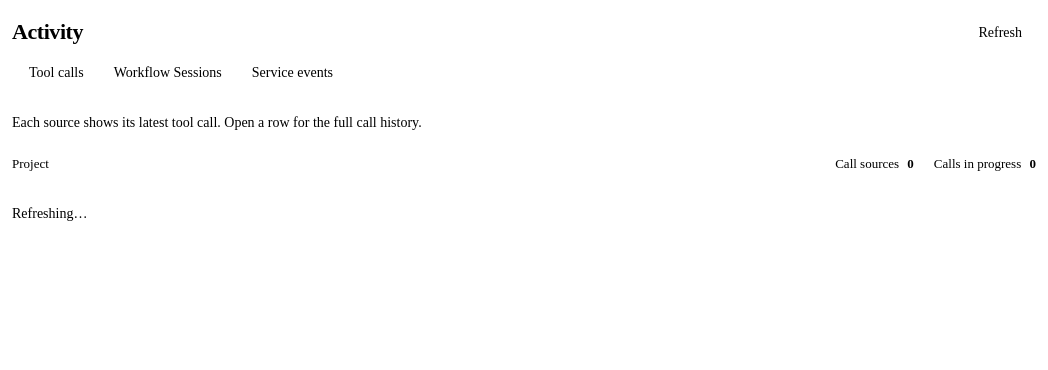
product workspace task flows › distinguishes an open idle session from running work and hides empty attention counts
The image size is (1048, 370).
Click the tab "Workflow Sessions" at (168, 72), box [100,55,236,89]
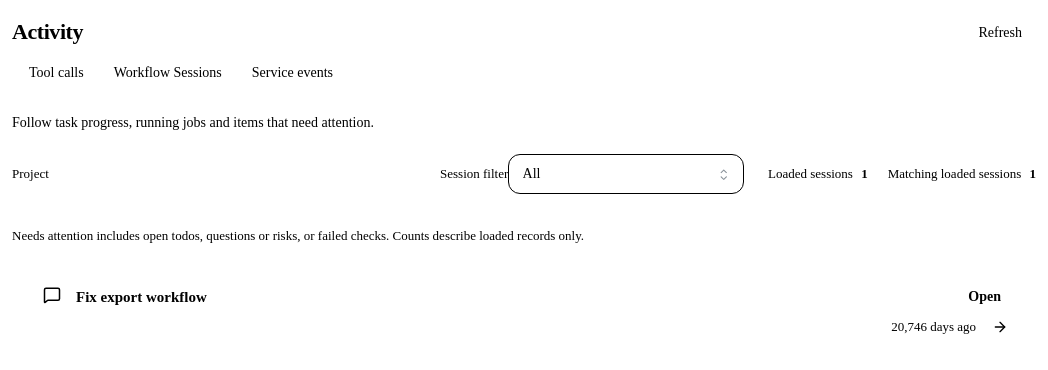
expect the button "Fix export workflow" does not show "Active jobs": met, box [28,267,1020,353]
expect the button "Fix export workflow" shows "Open": met, box [28,267,1020,353]
expect the button "Fix export workflow" no longer shows "in progress": met, box [28,267,1020,353]
